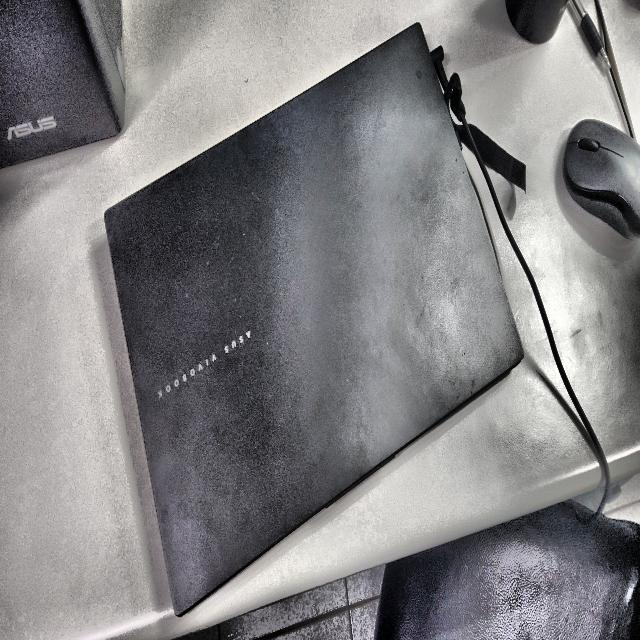laptop: (104, 23, 524, 615)
